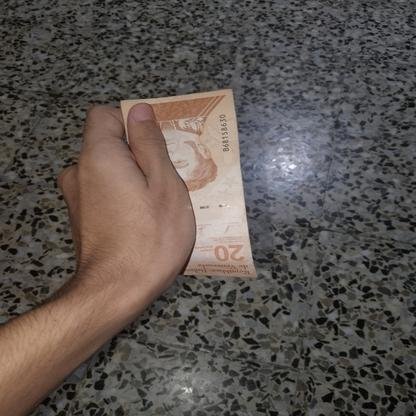twenty-front-vef: (121, 88, 258, 278)
